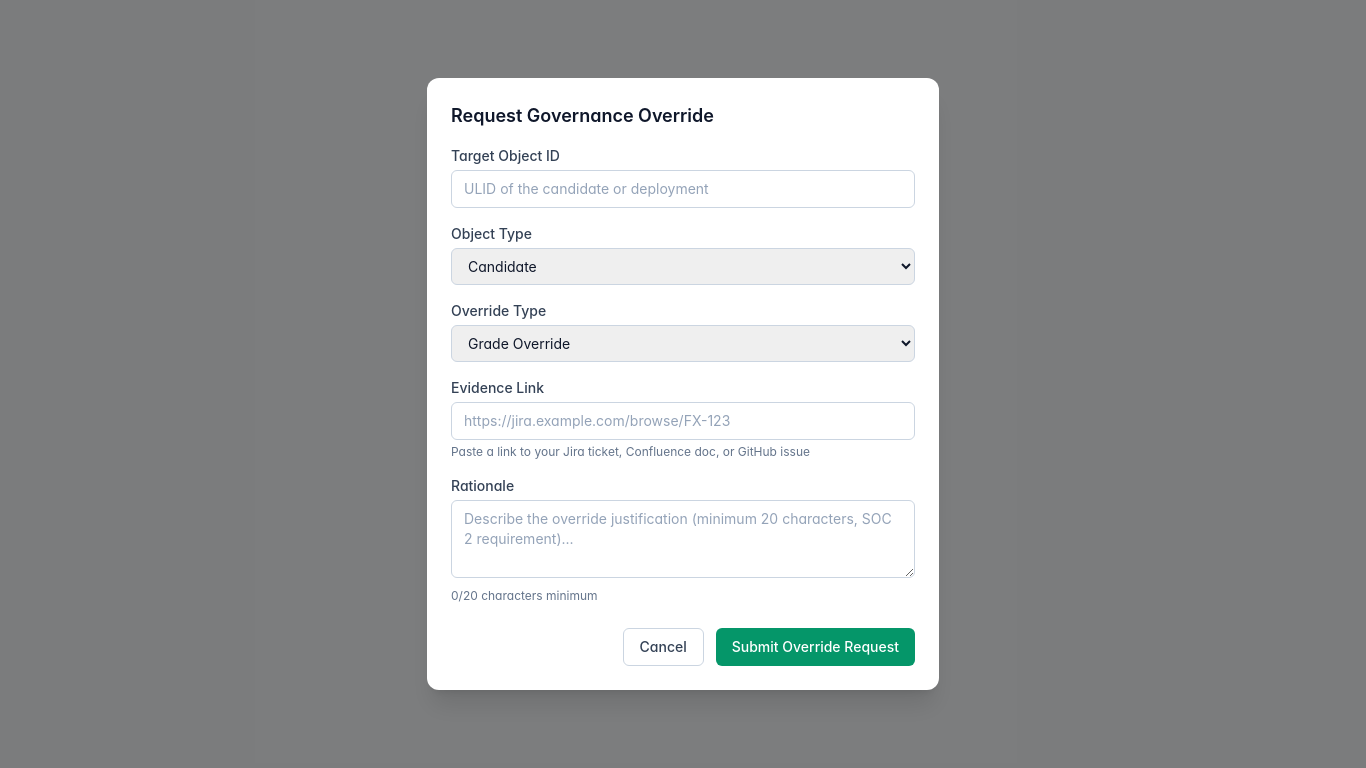
Test case: OverrideRequestForm › shows error when evidence_link is not a valid URL on submit
Type "01HCANDIDATE0000000001" into the field with test id "override-object-id-input".
click(683, 189); type("01HCANDIDATE0000000001")  # box [451,170,915,208]
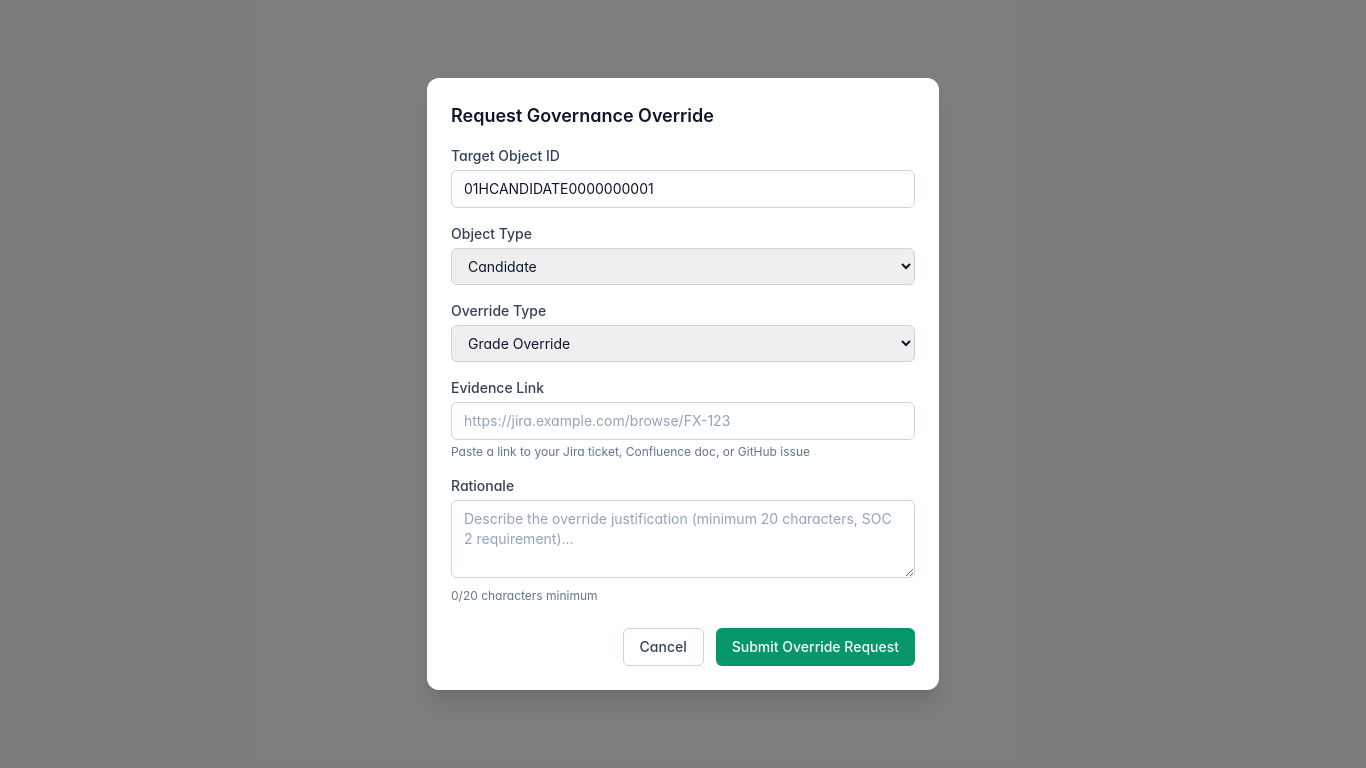
Type "not-a-url" into the field with test id "override-evidence-link-input".
click(683, 421); type("not-a-url")  # box [451,402,915,440]
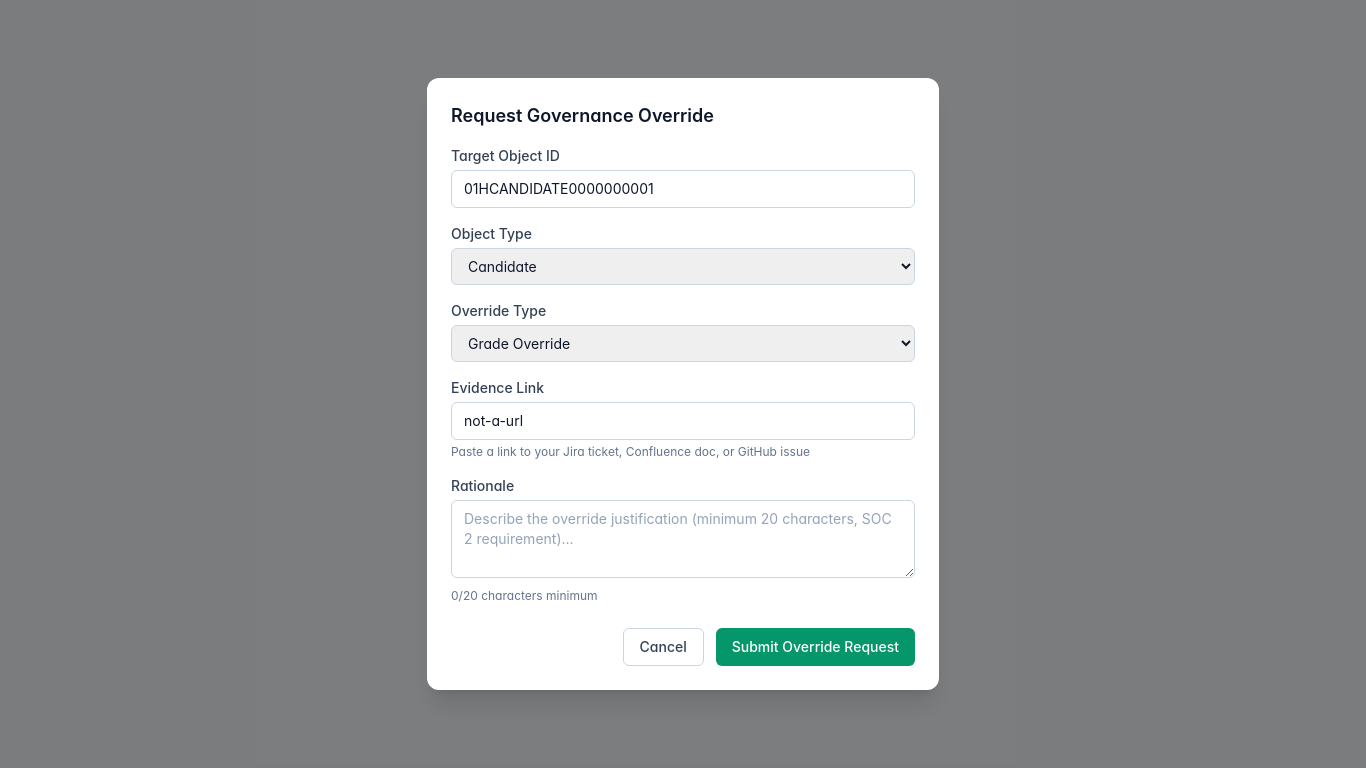
Replace the text in the text box with test id "override-rationale-input" with "Extended backtest over 3-year window justifies grade uplift." at (683, 539), box [451,500,915,578]
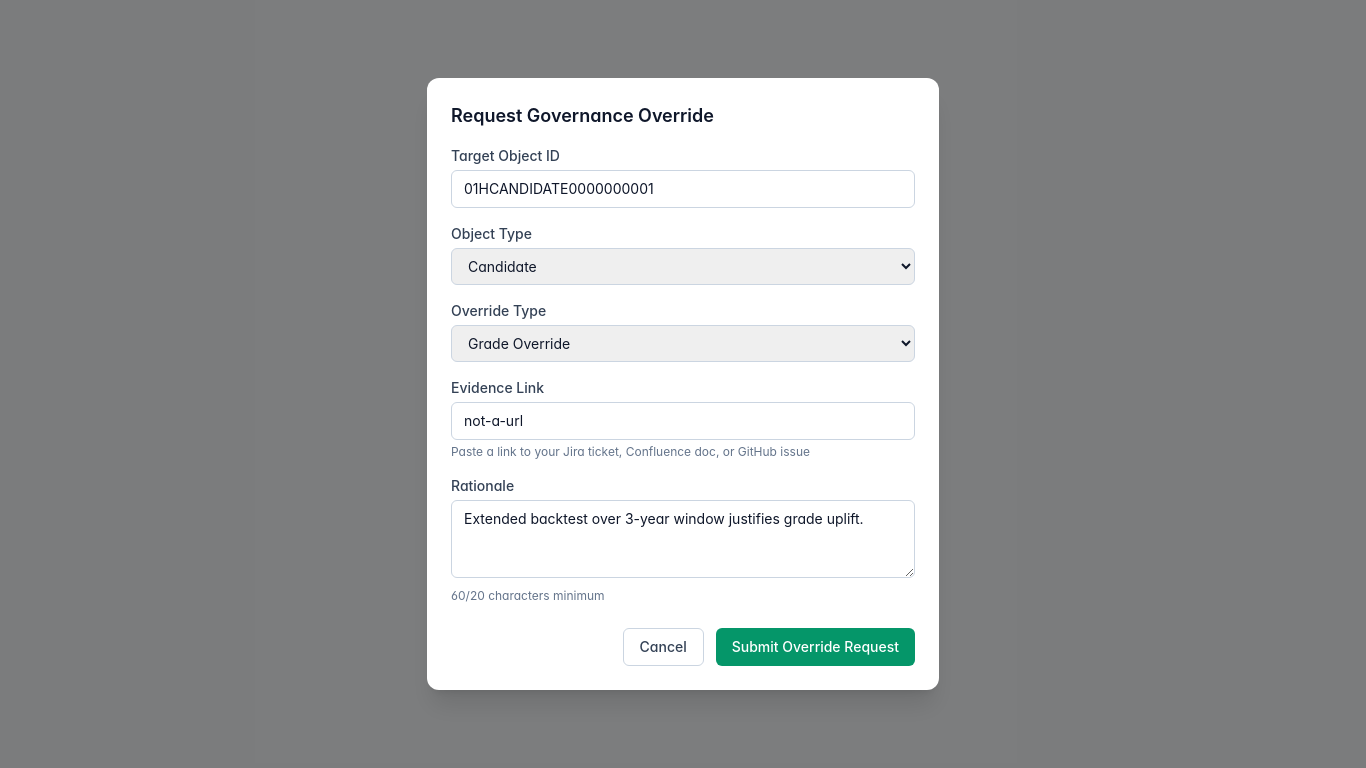
Click the button with test id "override-form-submit".
click(815, 647)  # box [716,628,915,666]
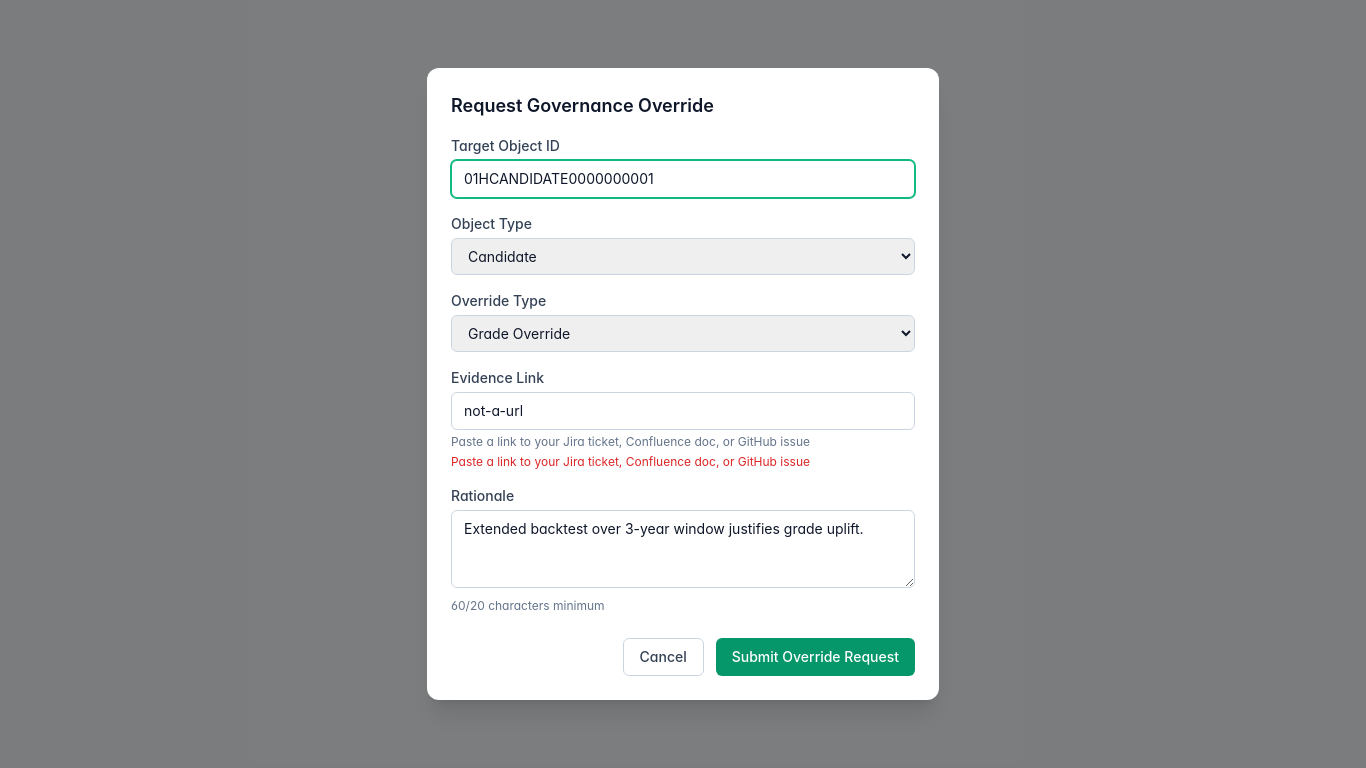
Expected: the text with test id "evidence-link-error" is shown, [451,454,810,469]
